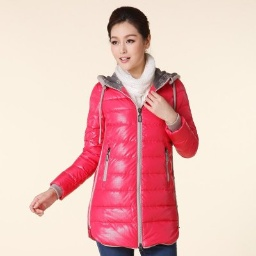face: (107, 5, 152, 69)
